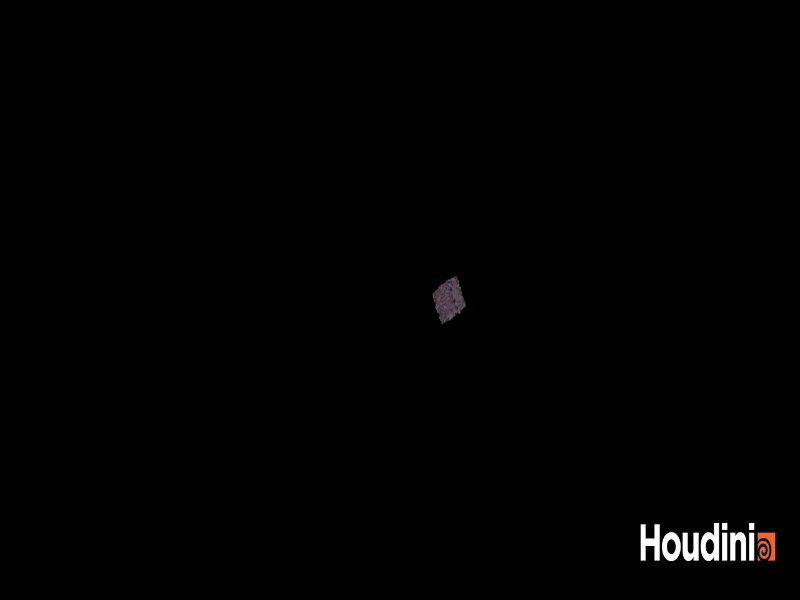waste: (424, 259, 478, 332)
